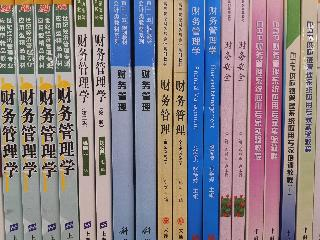book-spine: (14, 0, 45, 240), (52, 0, 80, 240), (34, 1, 61, 240), (109, 1, 135, 240), (132, 1, 157, 239), (0, 0, 24, 240), (295, 2, 319, 238), (73, 1, 96, 240), (277, 1, 300, 240), (91, 0, 113, 239), (184, 2, 206, 240), (262, 1, 284, 239), (245, 1, 266, 240), (202, 2, 222, 240), (171, 0, 189, 239), (232, 1, 250, 239), (156, 1, 173, 240), (218, 1, 234, 240)
